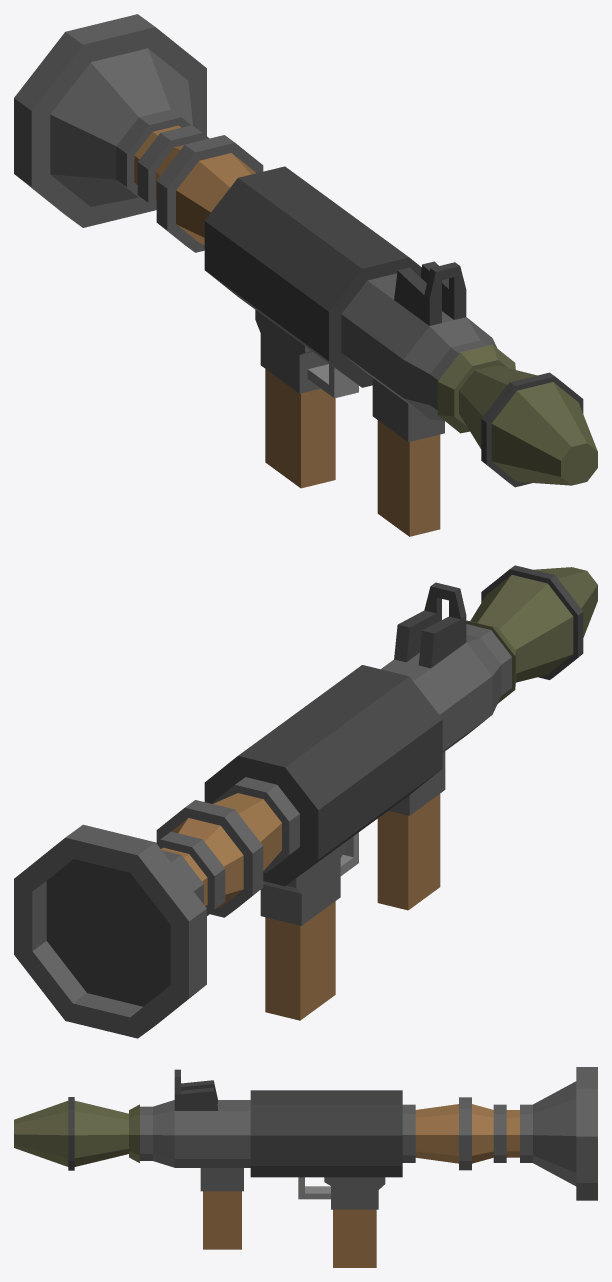
File: rocket_launcher.obj
3 renders of one model, top to bottom at view 1: azimuth 30°, elevation 25°; view 2: azimuth 150°, elevation 25°; view 3: azimuth 270°, elevation 25°, orthographic. The views are drawn at different scales.
Visible parts, largest first — view 1: rocketlauncher; view 2: rocketlauncher; view 3: rocketlauncher.
Boxes of the visible parts, bbox=[...] form: rocketlauncher: bbox=[14, 14, 597, 536]; rocketlauncher: bbox=[14, 565, 597, 1038]; rocketlauncher: bbox=[14, 1067, 597, 1267].
Bounding box in the file's own units: 0.0342 × 0.0578 × 0.1614.
